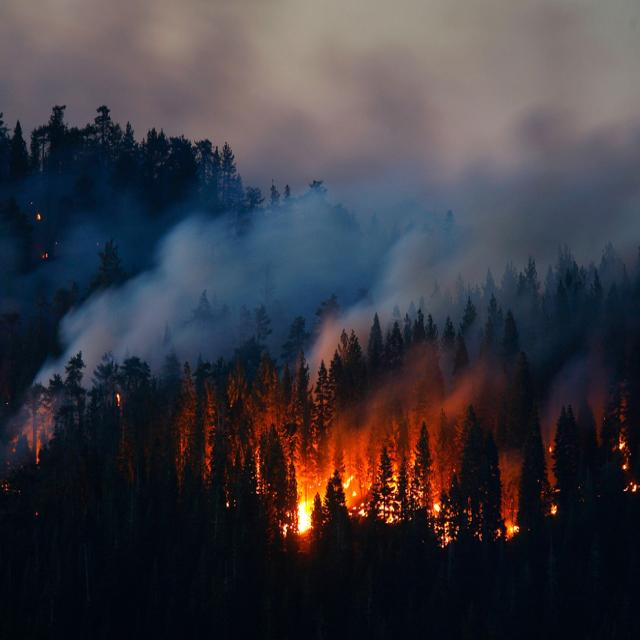Fire: (293, 471, 334, 552)
Smoke: (64, 187, 631, 373)
